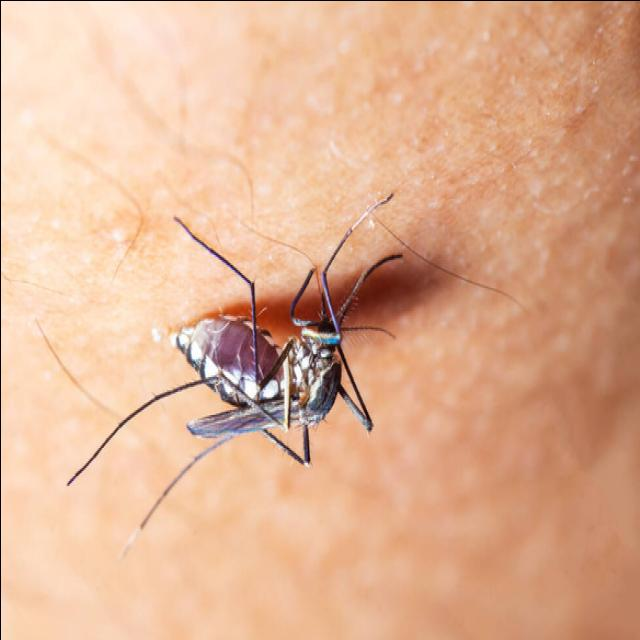Mosquito: (120, 140, 443, 560)
